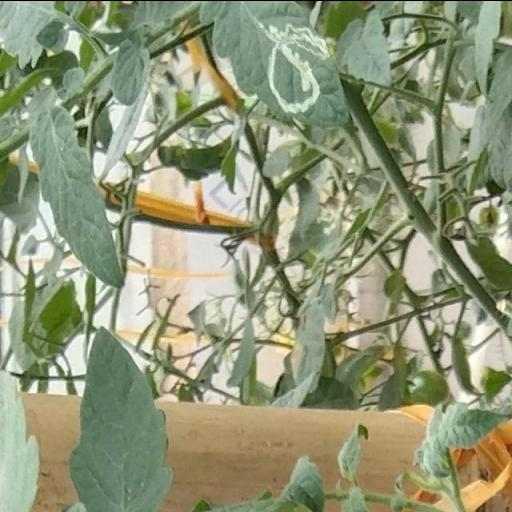disease_tomato: (198, 0, 350, 128)
